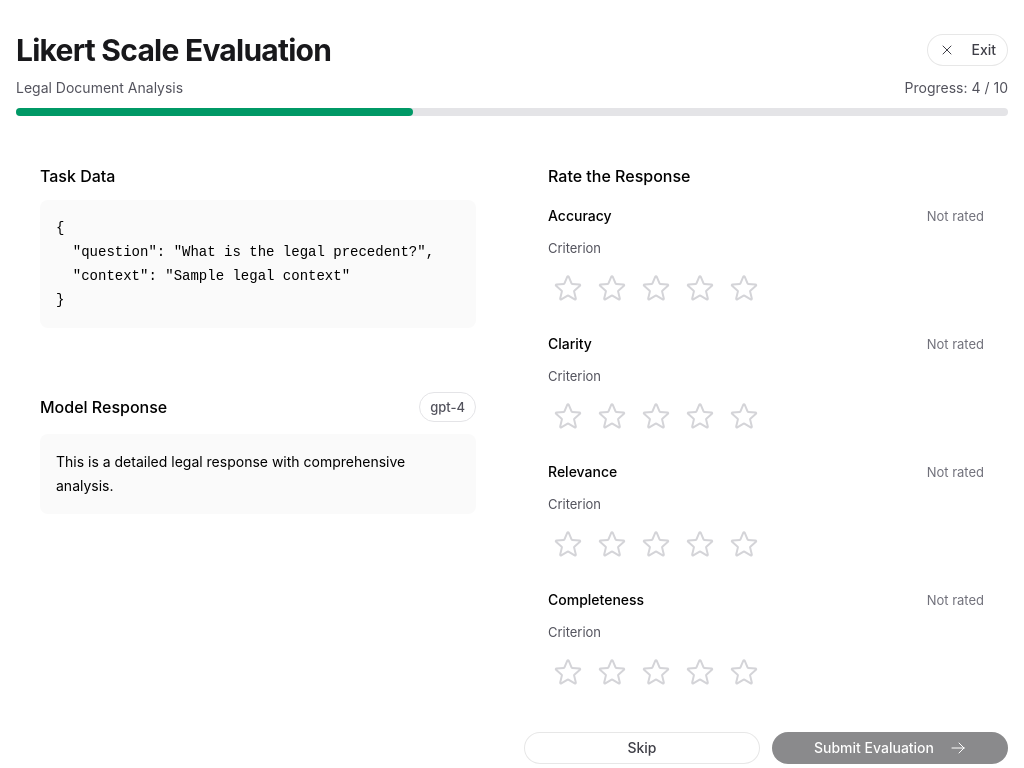
LikertEvaluation › submit functionality › updates progress after submission
The image size is (1024, 768).
Check: the text "Progress: 4 / 10" is shown, box [905,76,1008,100]
Click the button named "Rate 5 stars" below "Accuracy": {"x": 744, "y": 288} [724,268,764,308]
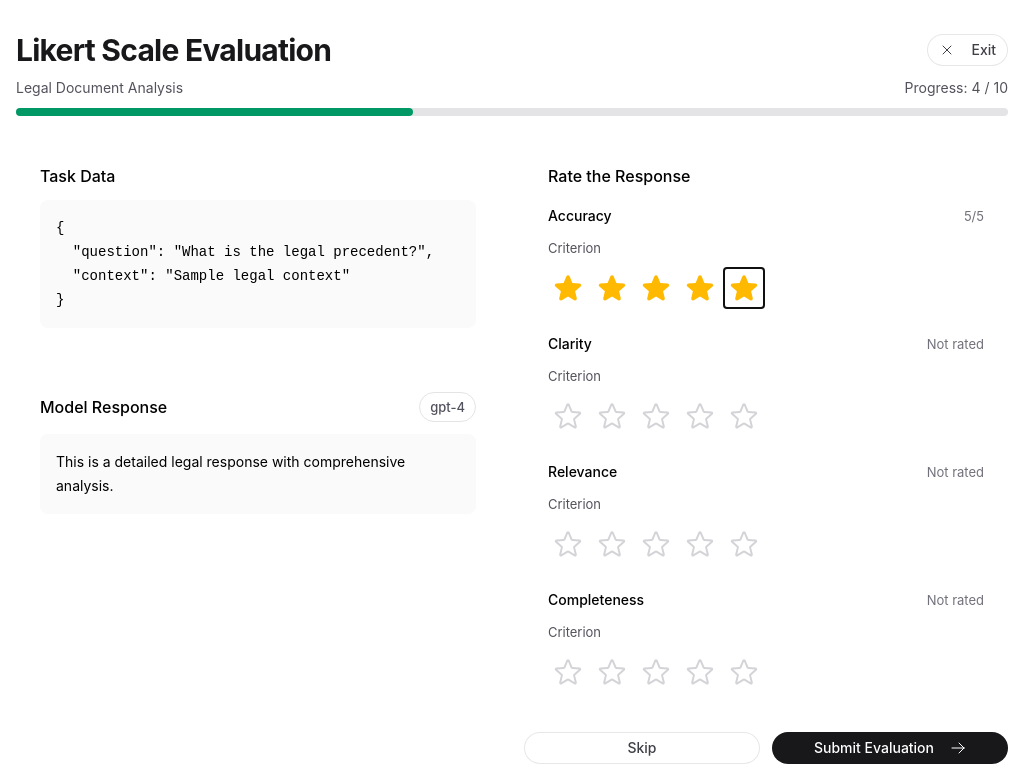
Click the button named "Rate 3 stars" below "Clarity": {"x": 656, "y": 416} [636,396,676,436]
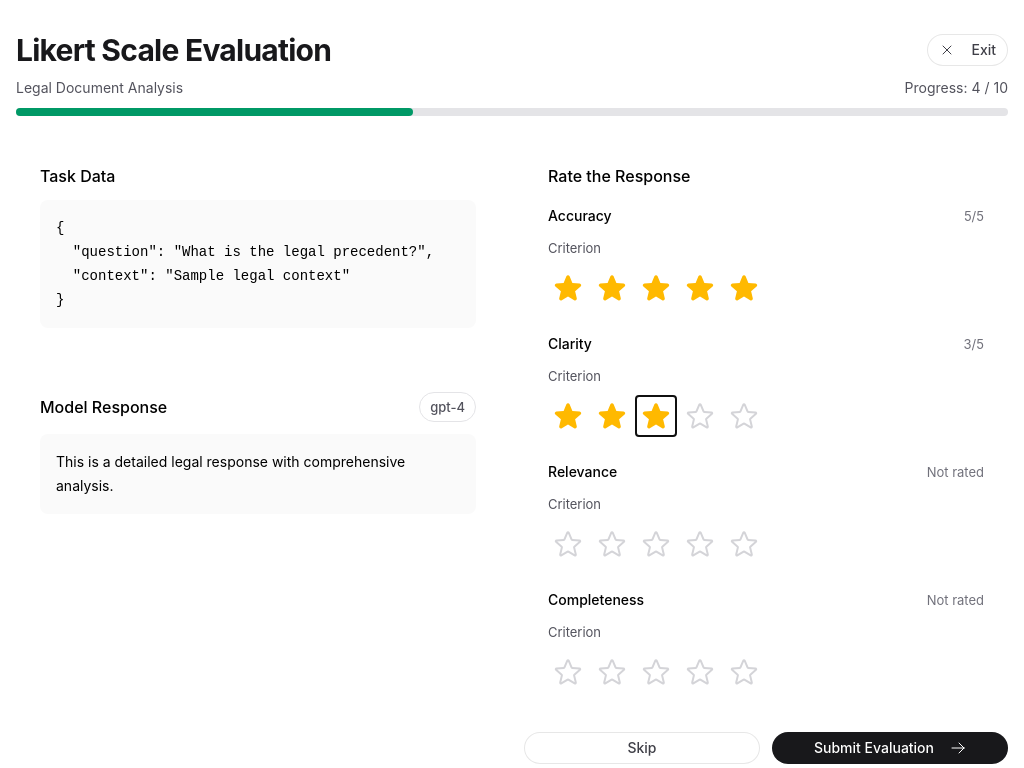
Click the button named "Rate 4 stars" below "Relevance": {"x": 700, "y": 544} [680,524,720,564]
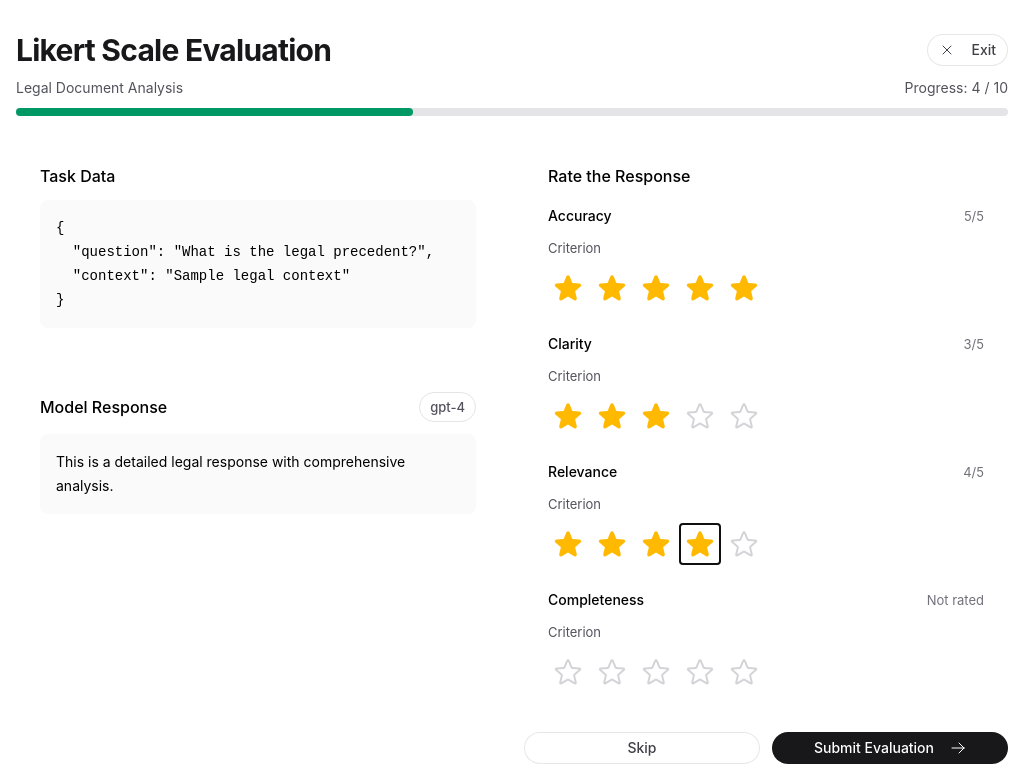
Click the button named "Rate 2 stars" below "Completeness": {"x": 612, "y": 672} [592,652,632,692]
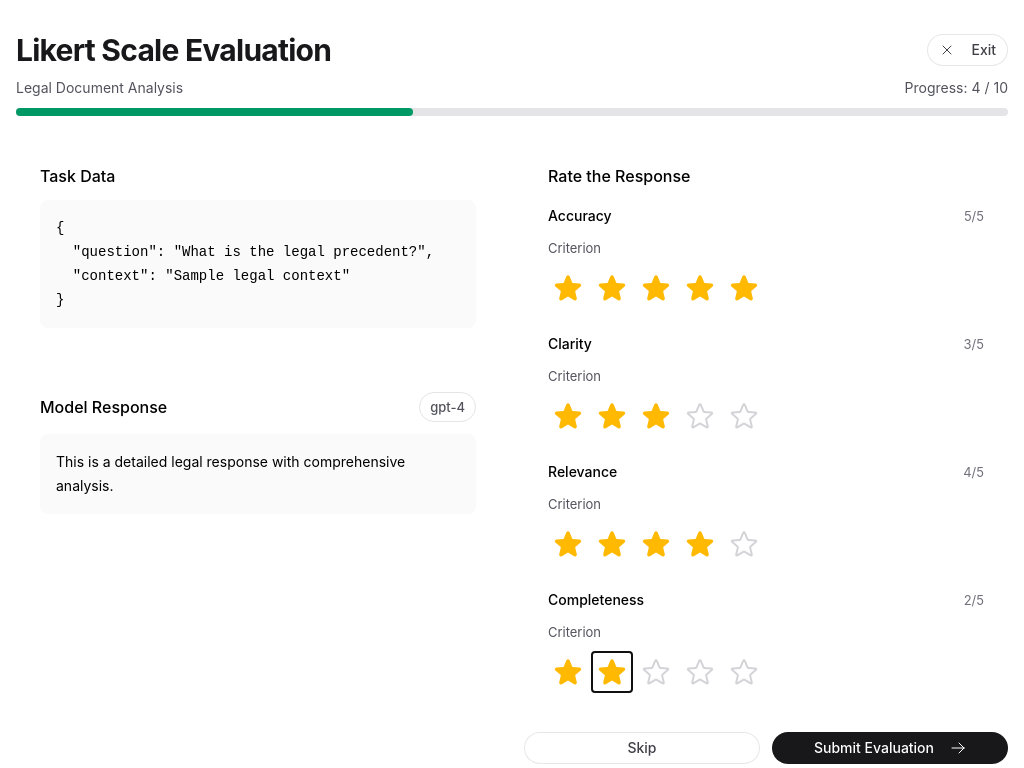
Click the button "Submit Evaluation": {"x": 890, "y": 748} [772,732,1008,764]
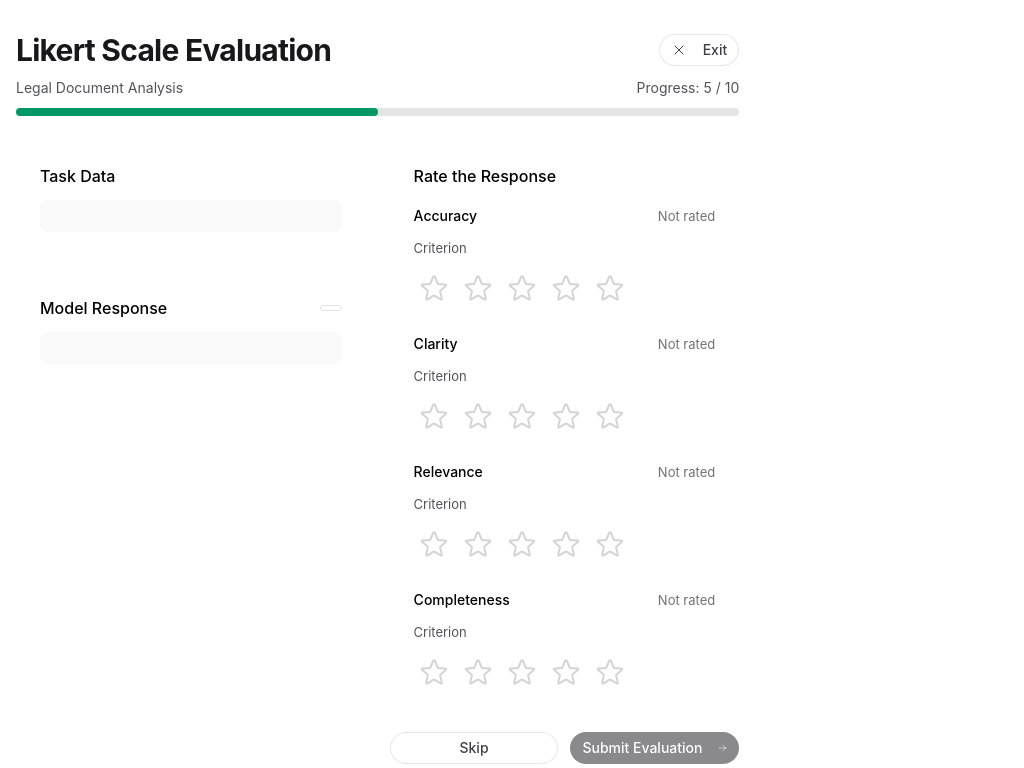
Check: the text "Progress: 5 / 10" is shown, box [636,76,739,100]
